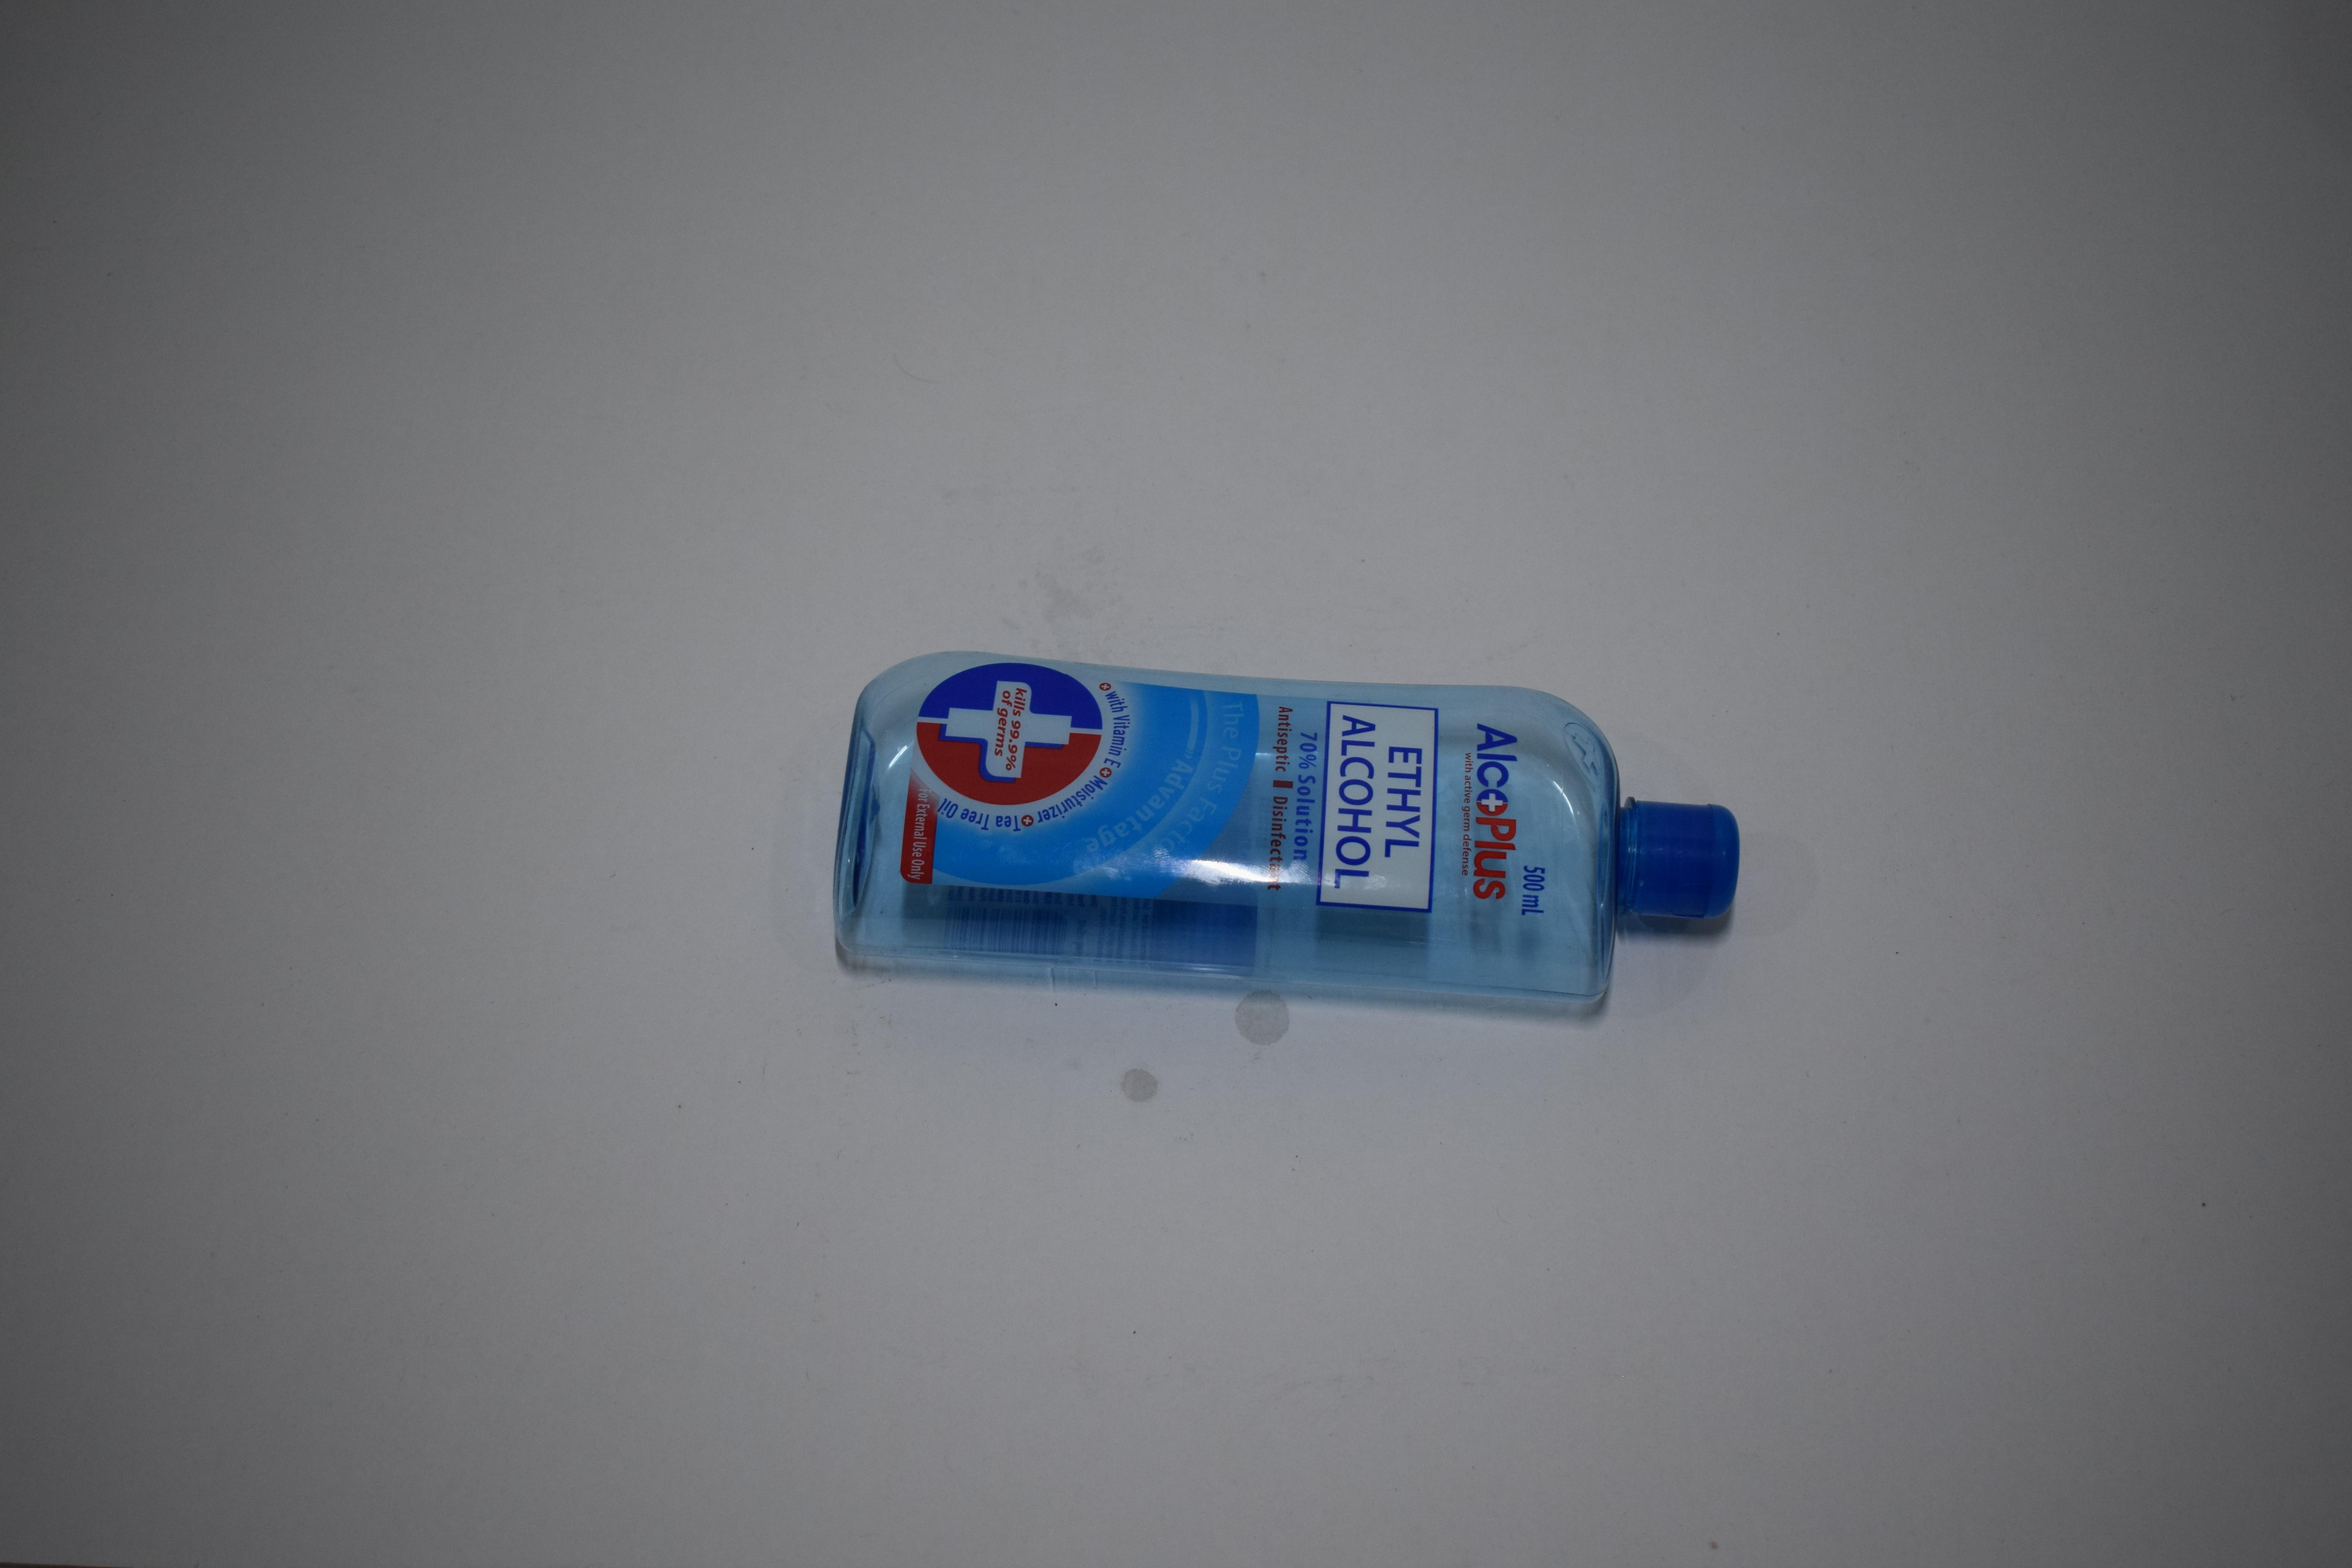bottle: (0, 0, 556, 212)
